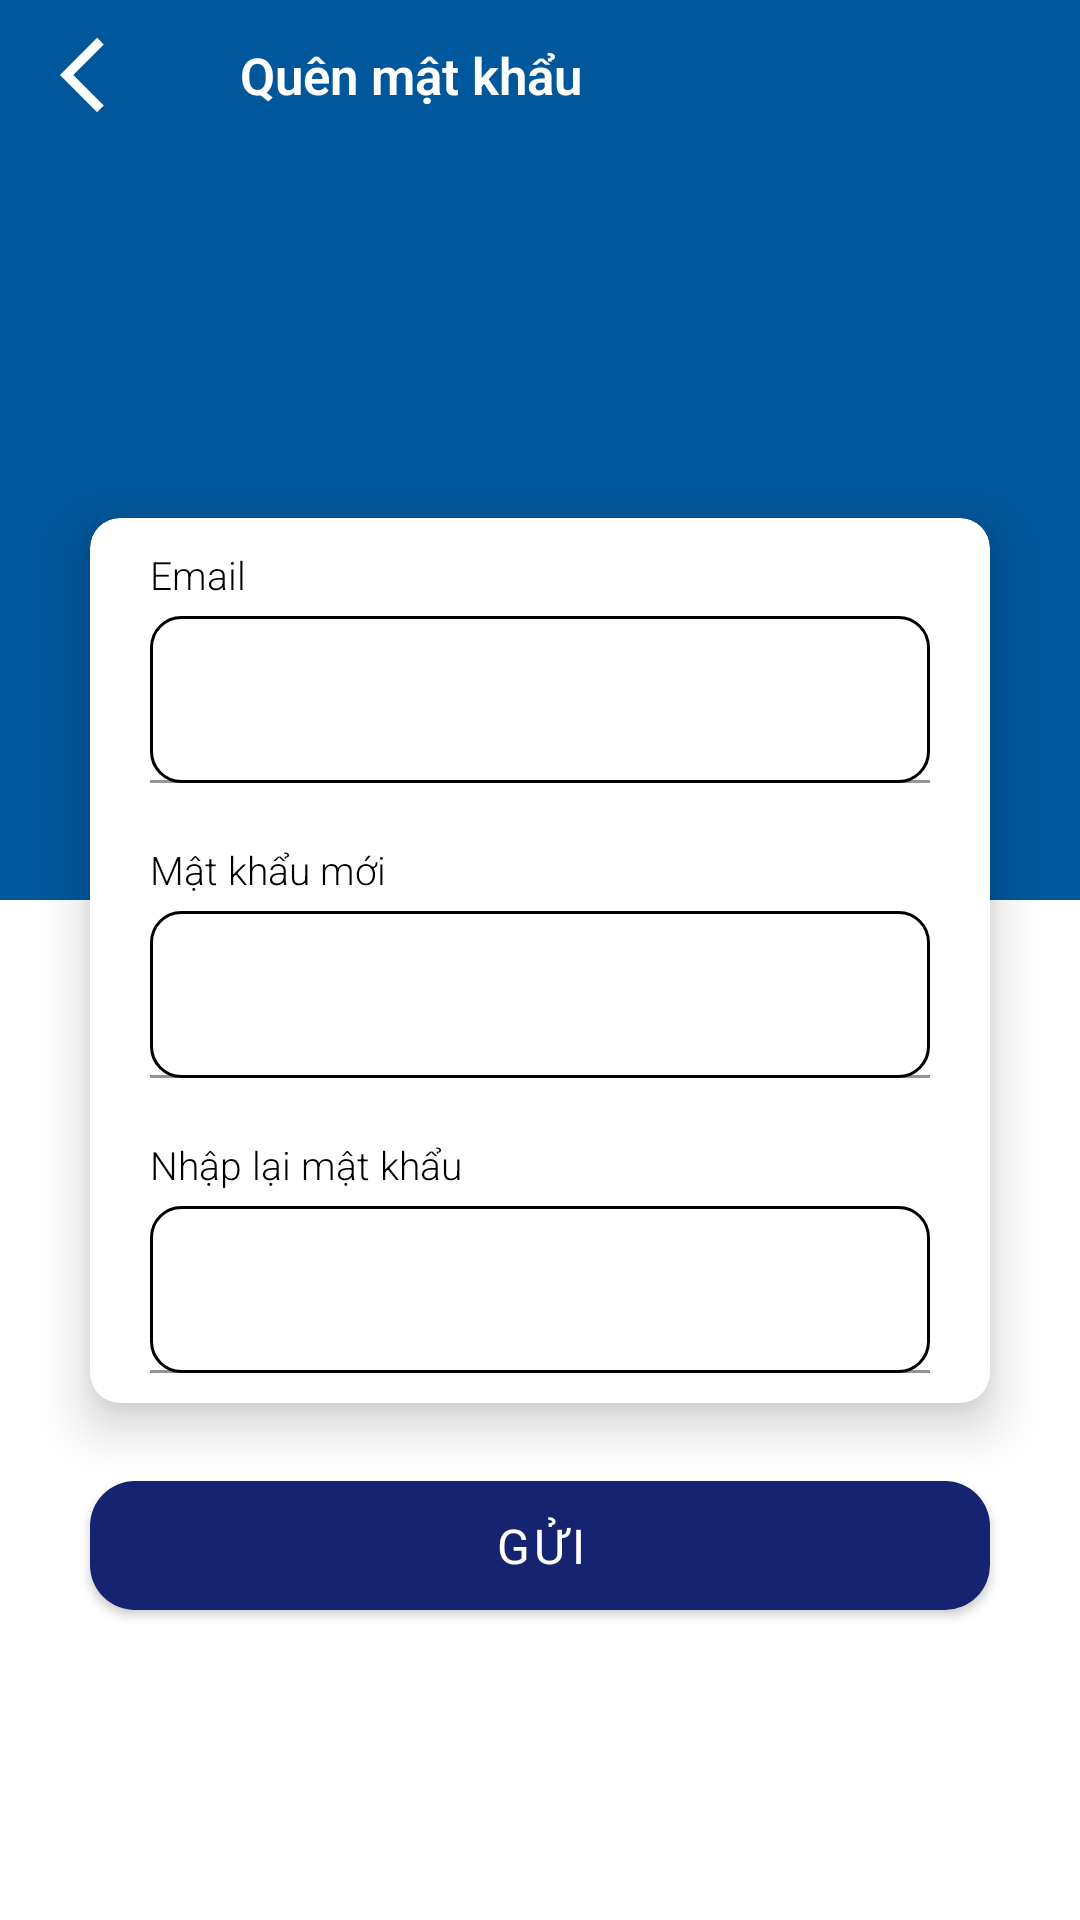

Screen size 1080*1920. Icon name, then its center in pixels as (x=x, y=y):
back: (x=82, y=75)
